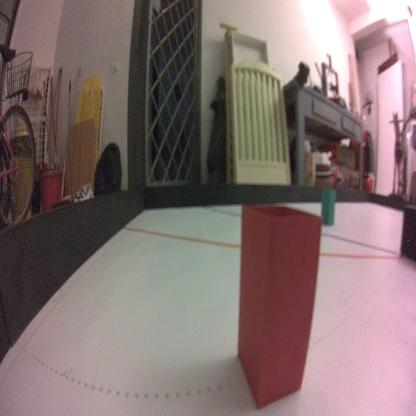green: (323, 187, 334, 226)
red: (237, 203, 323, 410)
